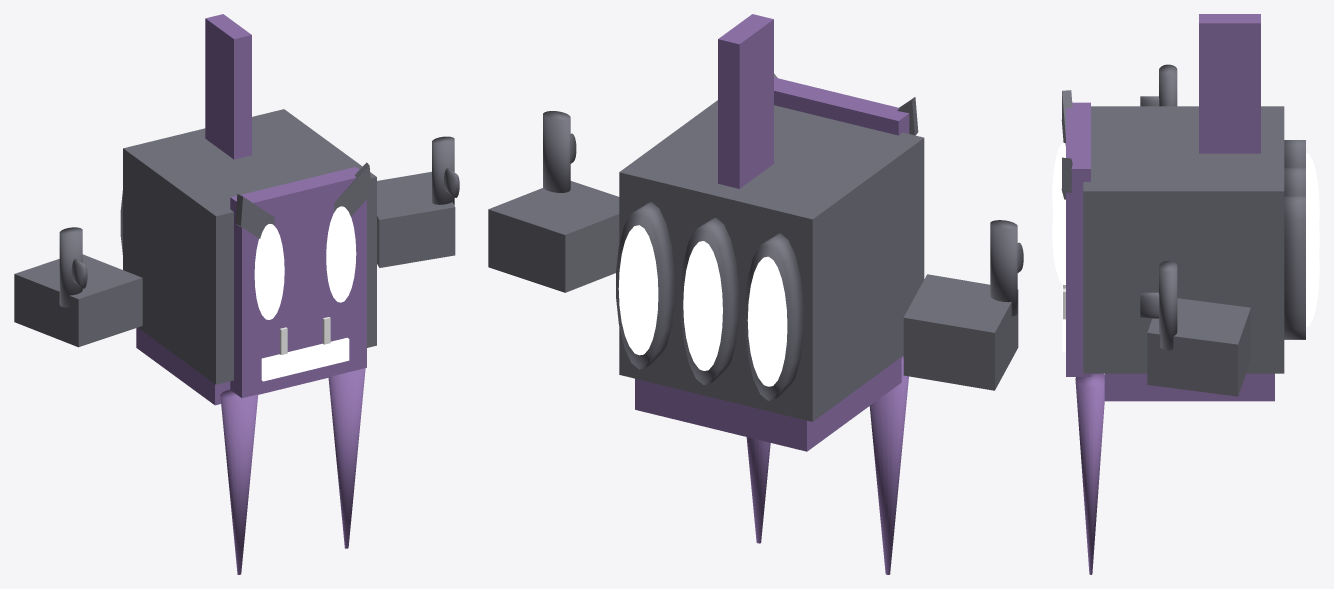
File: mothership.glb
3 renders of one model, left to right at view 1: azimuth 30°, elevation 25°; view 2: azimuth 150°, elevation 25°; view 3: azimuth 270°, elevation 25°, orthographic. The views are drawn at different scales.
Parts seen in each view (by area): view 1: Mothership_joined; view 2: Mothership_joined; view 3: Mothership_joined.
Part boxes in pixels (x1,y1,x2,y2): Mothership_joined: (14,14,459,574); Mothership_joined: (488,14,1023,574); Mothership_joined: (1052,14,1319,574).
Bounding box in the file's own units: 2.91 × 3.21 × 1.48.
